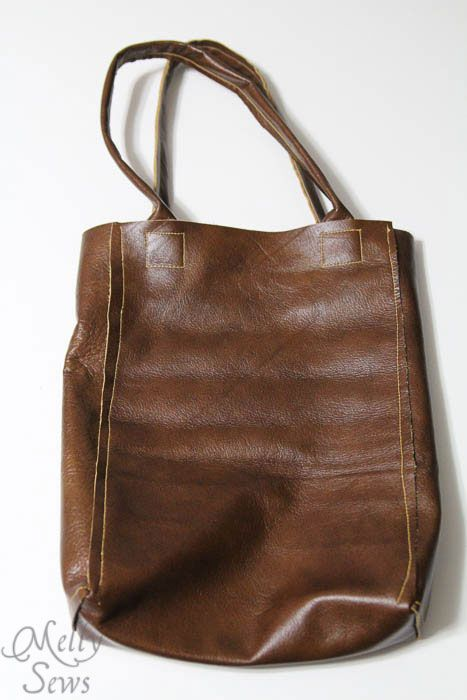cuero: (59, 40, 443, 666)
